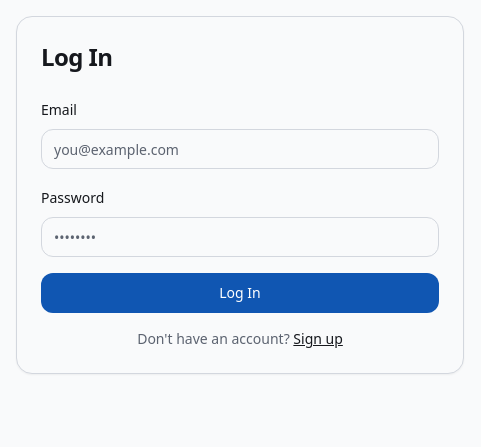
Test: LoginPage › shows validation errors for empty form
Click the button "Log In".
click(240, 293)  # box left=41, top=273, right=439, bottom=313
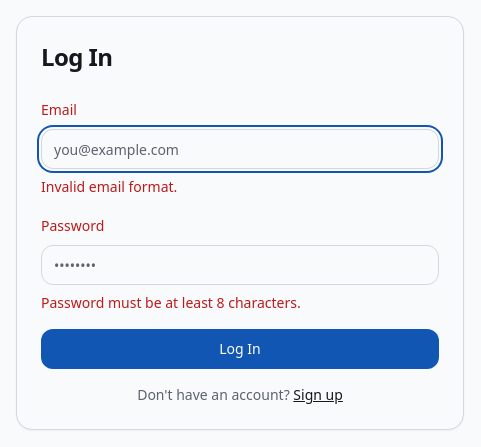
Expected: the text "Invalid email format." is shown, left=41, top=177, right=177, bottom=196
